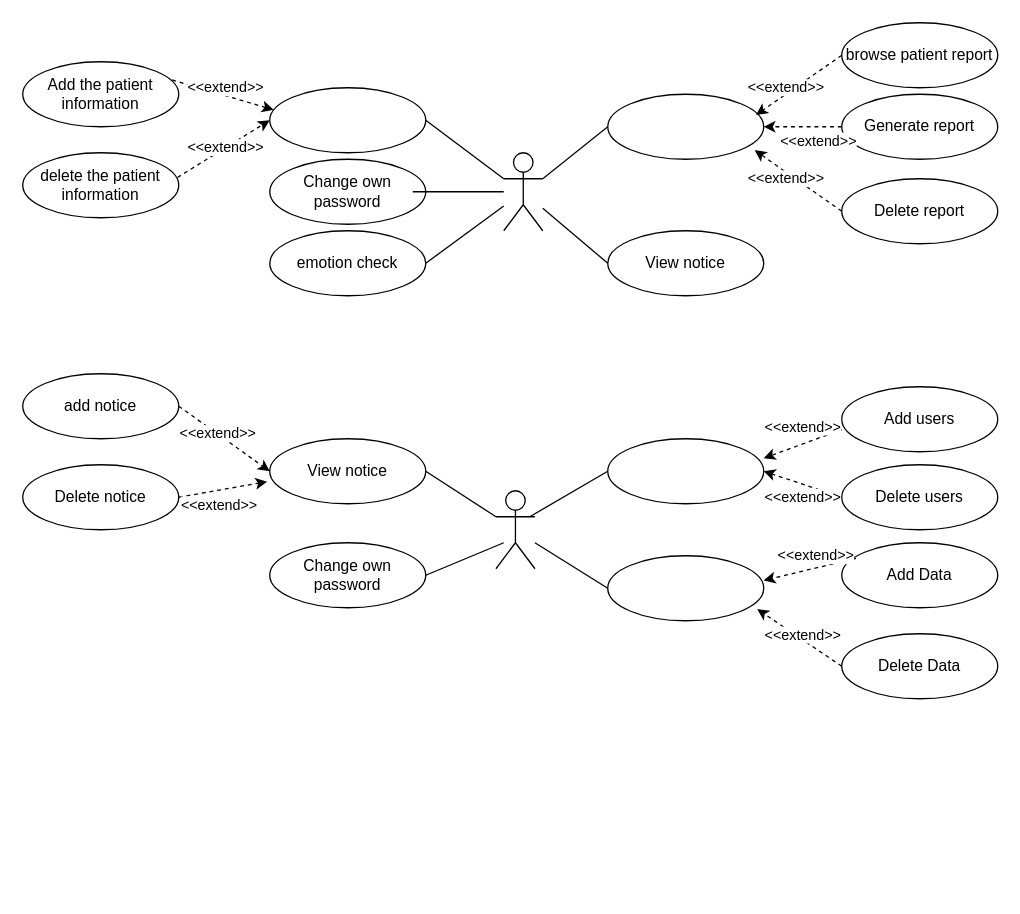
Some shapes in this 1020 by 914 pixel diagram are drawn without their labels. The shapes that lost their labels are listed below. From the top down, each one's centre as x and y in pixels, then its label:
the point at 347,119: manage the patient
the point at 685,126: View report
the point at 522,191: Gener user
the point at 685,470: View users
the point at 515,529: System administrator
the point at 685,587: Manage the patient Data
